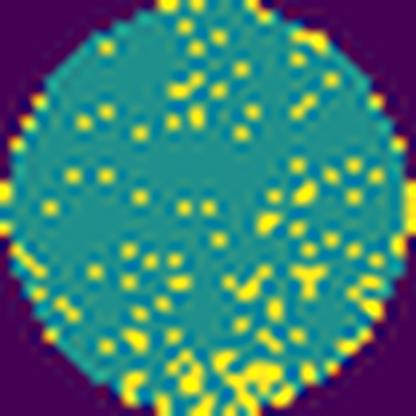Edge-Loc: (166, 348, 301, 416)
